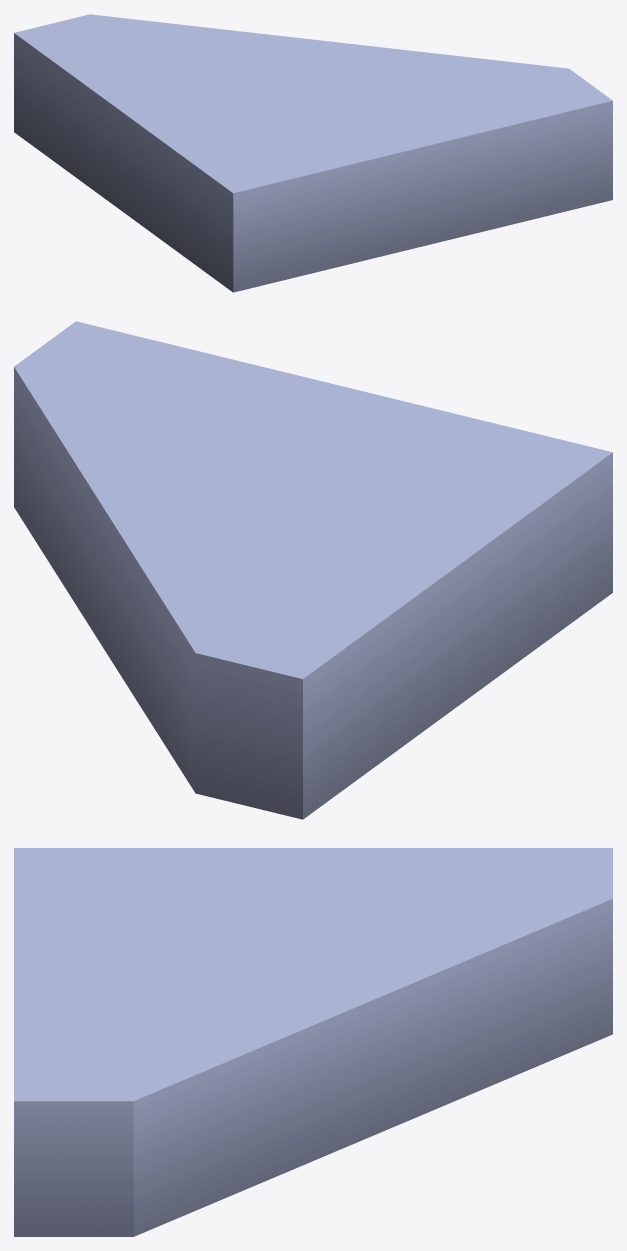
Rendered from floor-thick-corner-diagonal.glb.
3 renders of one model, top to bottom at view 1: azimuth 30°, elevation 25°; view 2: azimuth 150°, elevation 25°; view 3: azimuth 270°, elevation 25°, orthographic. The views are drawn at different scales.
Visible parts, largest first — view 1: floor-thick-corner-diagonal; view 2: floor-thick-corner-diagonal; view 3: floor-thick-corner-diagonal.
Part boxes in pixels (box(x1,y1,x2,y2)): floor-thick-corner-diagonal: box(14, 14, 612, 292); floor-thick-corner-diagonal: box(14, 321, 612, 819); floor-thick-corner-diagonal: box(14, 848, 612, 1236).
Size of the model in its own units: 1 by 0.25 by 1.
1 material, 1 textured.
